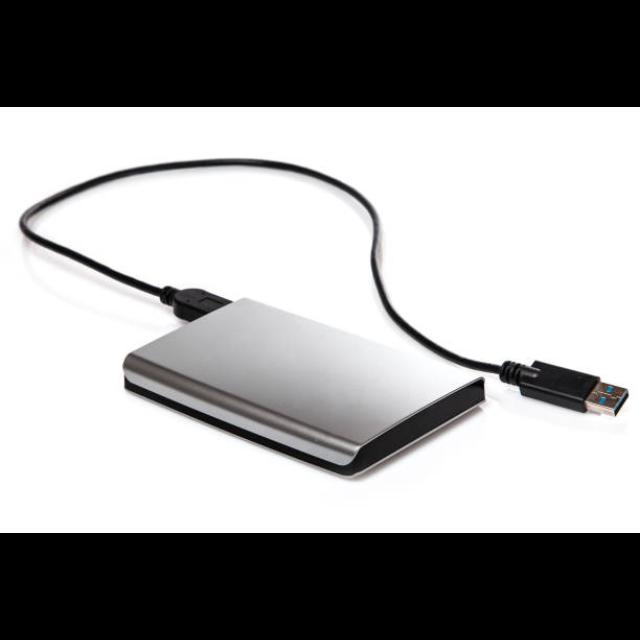HDD: (122, 299, 487, 480)
